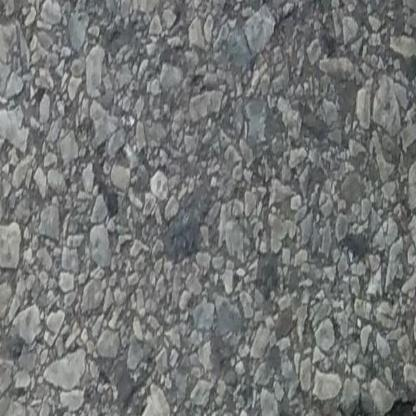Cracks: (344, 366, 416, 416)
